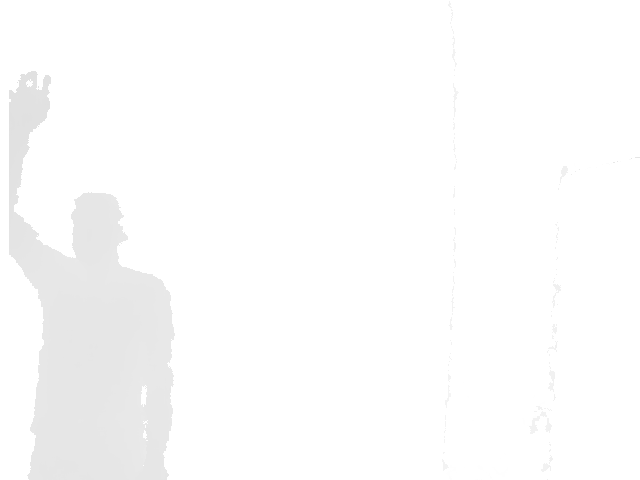hand: (8, 71, 51, 136)
head: (69, 192, 128, 269)
person: (8, 71, 178, 480)
